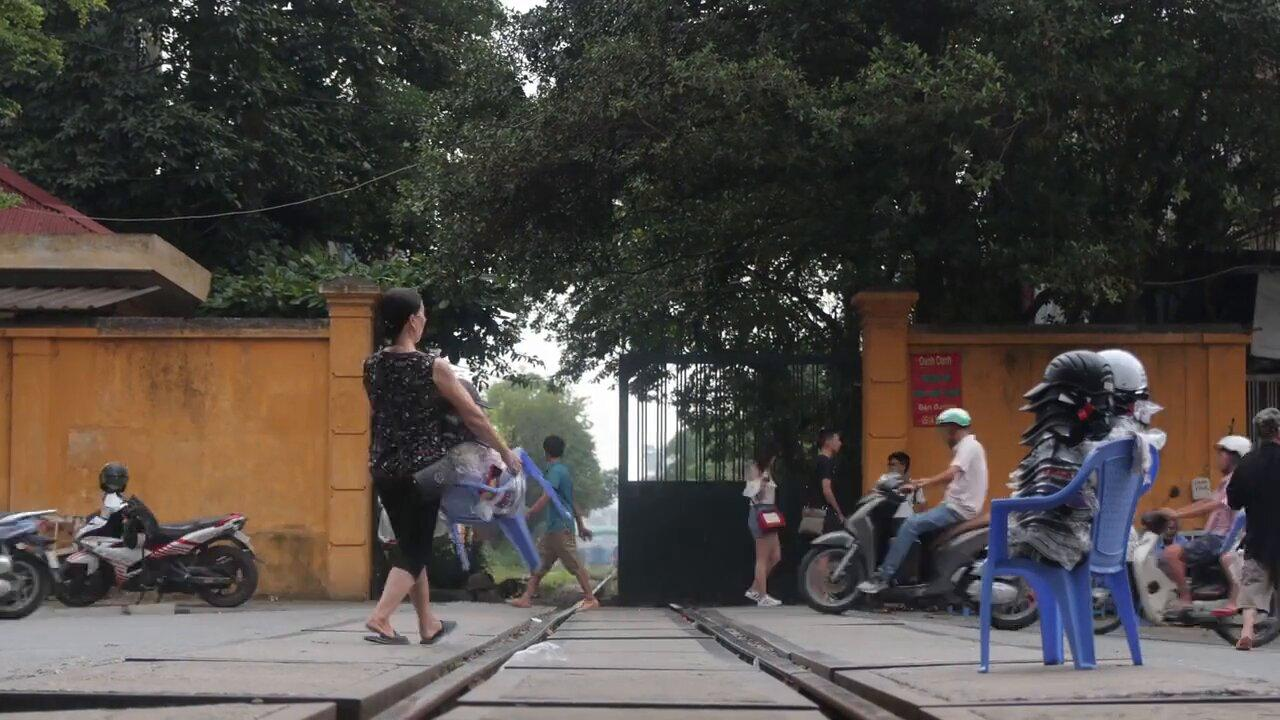driver: (796, 407, 1039, 630), (1094, 434, 1280, 648)
helmet: (935, 406, 972, 451), (1216, 434, 1253, 475)
no-helmet: (376, 286, 427, 344)
